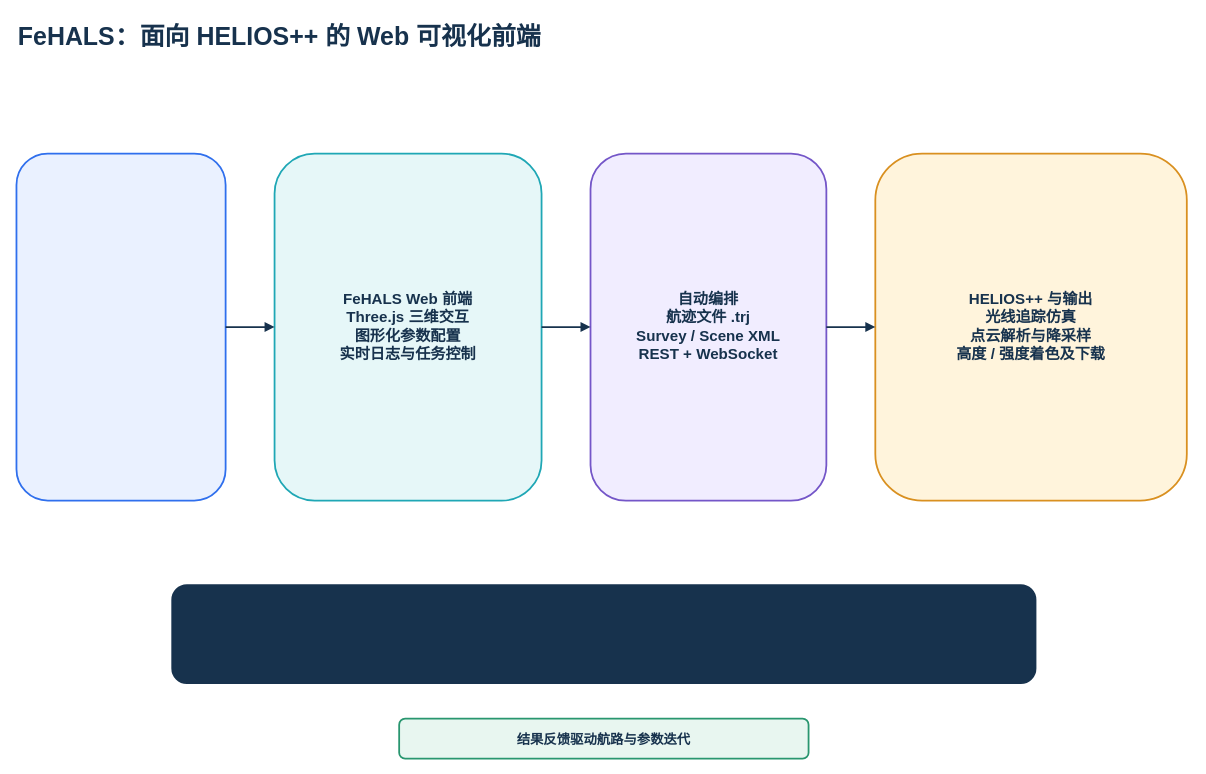
Some shapes in this 1206 by 774 pixel diagram are drawn without their labels. Each missing label, with the box of its shape:
一个浏览器入口，完成完整激光扫描仿真 降低配置门槛 · 提升航路设计效率 · 让仿真过程可见、结果可查: (171, 584, 1036, 684)
输入 三维场景模型 航点 / 航线 平台与传感器参数: (15, 152, 226, 501)
